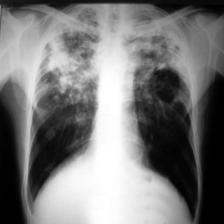tuberculosis: (19, 5, 201, 224)
